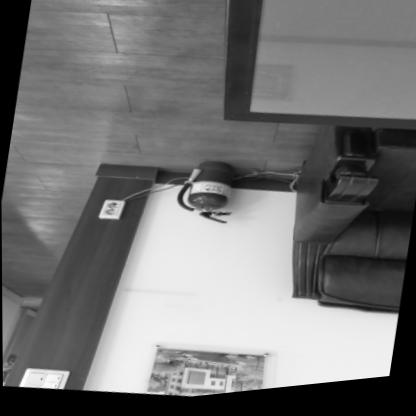FE: (170, 156, 239, 234)
